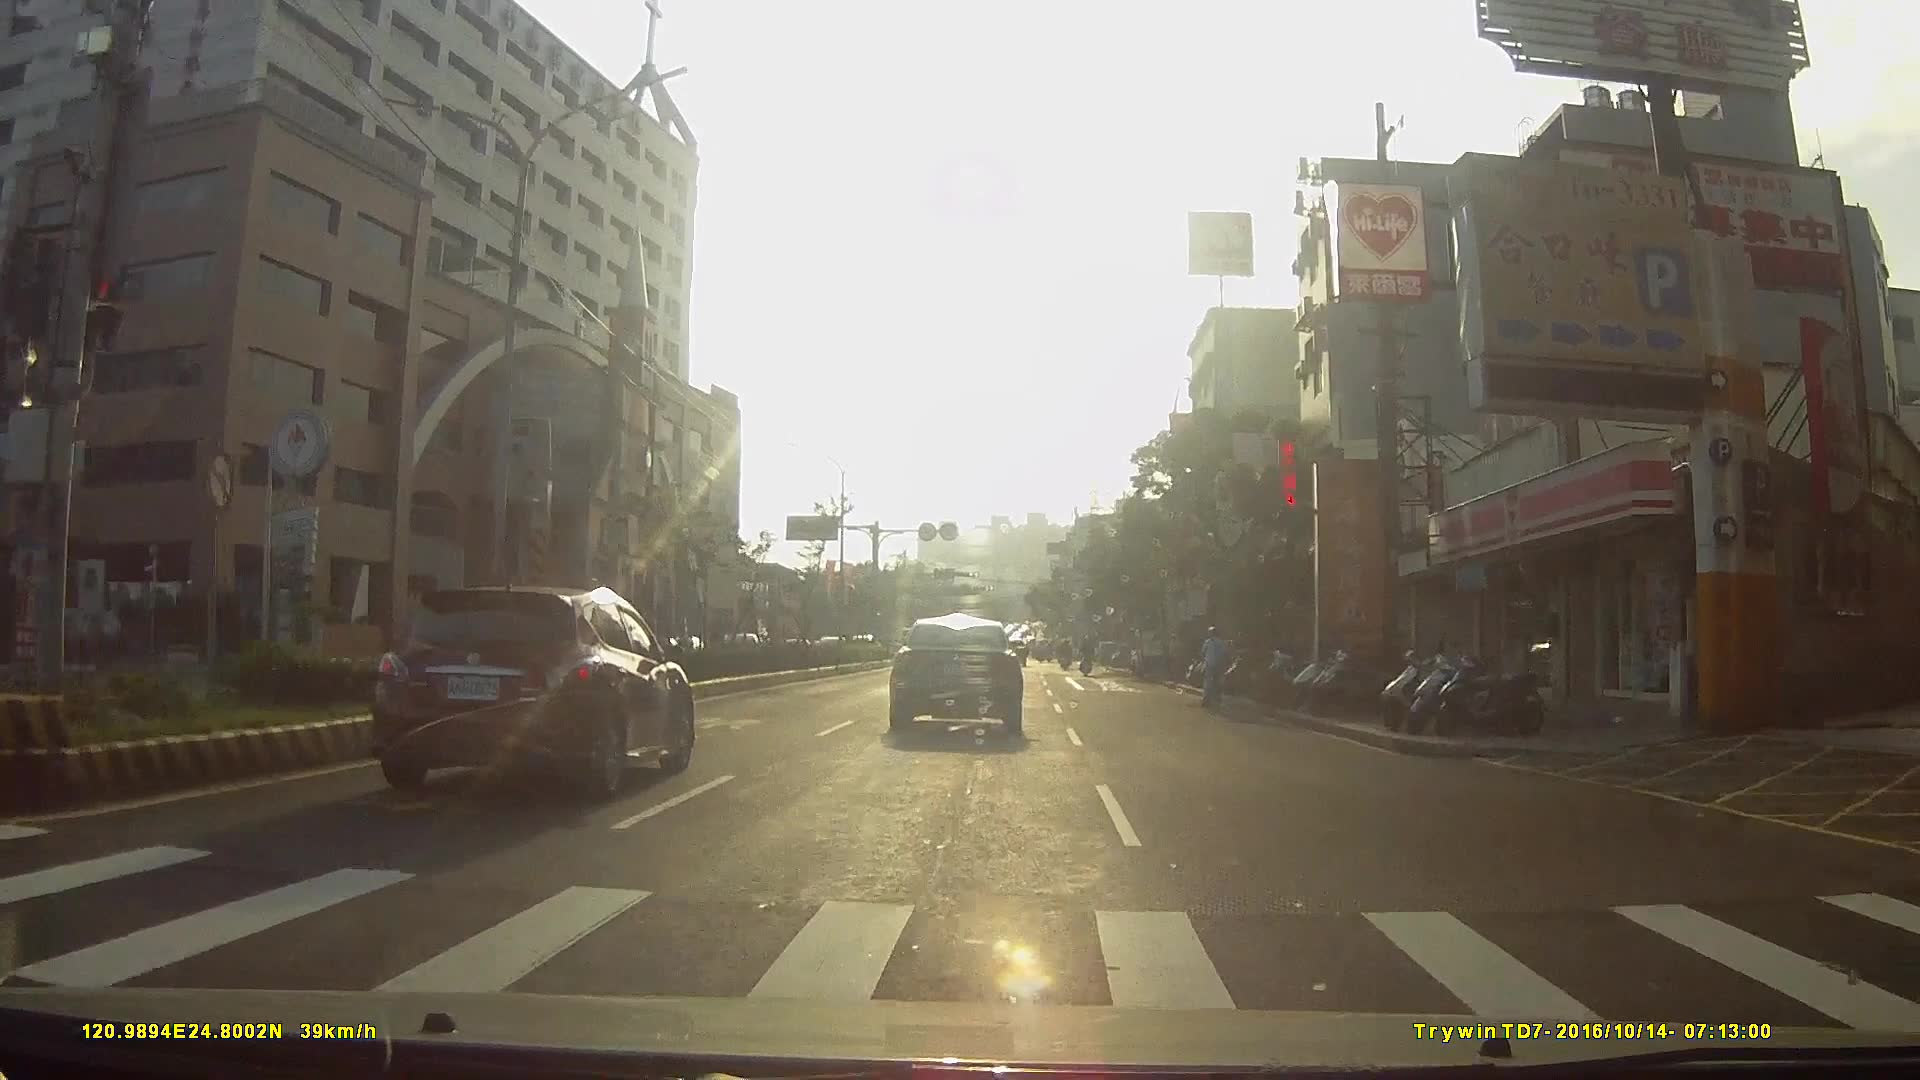rider: (1194, 624, 1232, 706)
vehicle: (363, 572, 704, 806), (888, 613, 1038, 746), (763, 607, 822, 662), (1131, 625, 1183, 678)
